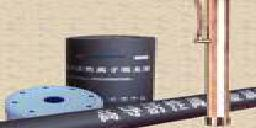Electrolytic-capacitor: (63, 33, 158, 106)
